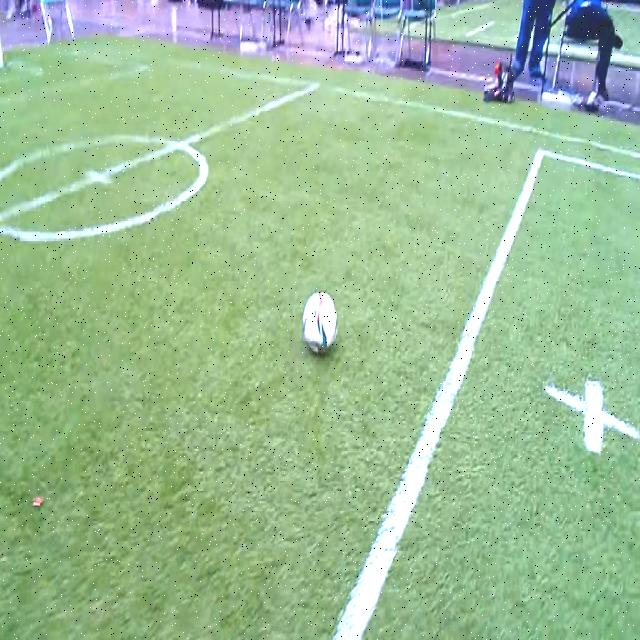ball: (303, 292, 337, 355)
